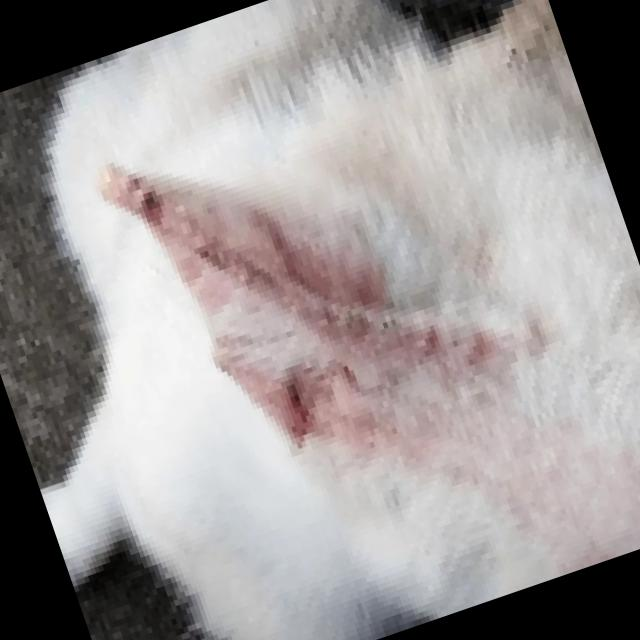Mange: (108, 145, 205, 263), (182, 212, 270, 306), (266, 356, 330, 440), (317, 334, 381, 409), (458, 309, 509, 374), (416, 309, 460, 372)
